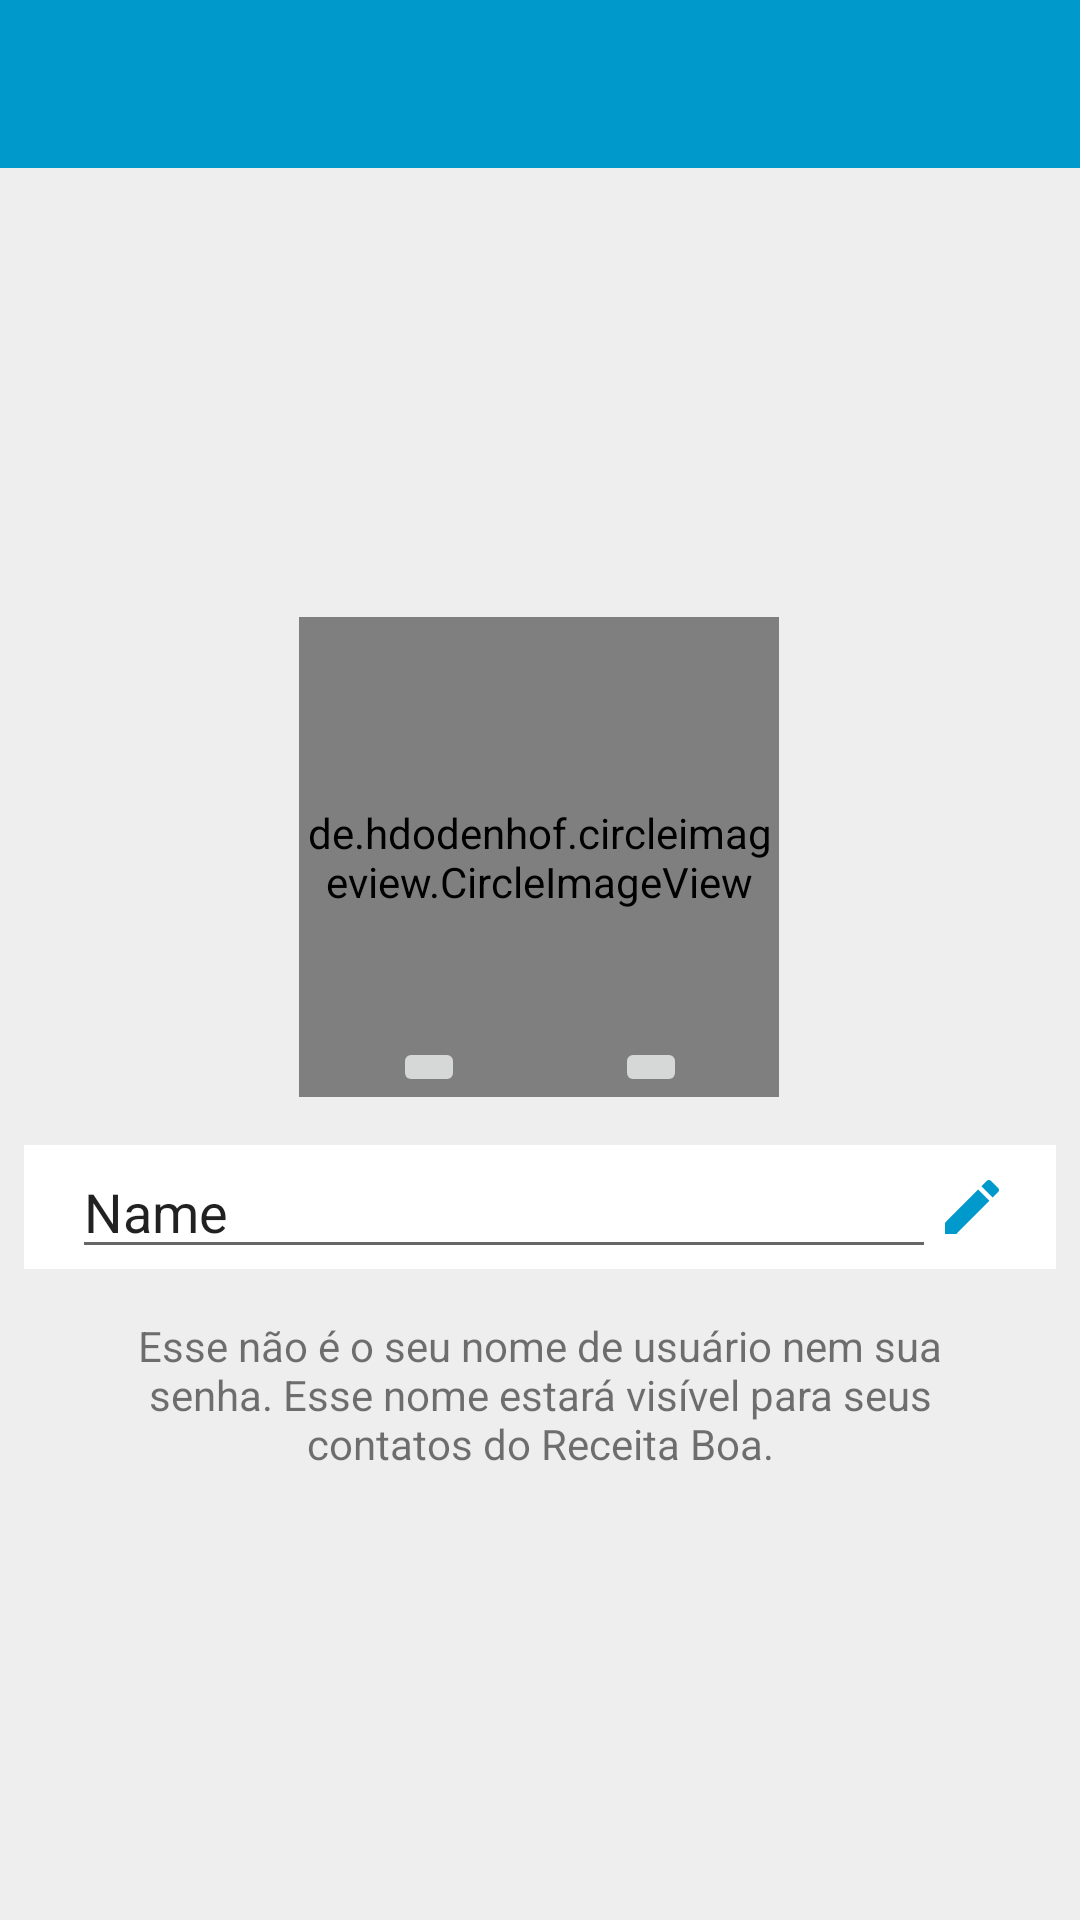

Icons on this 1080 x 1920 Android screen, each with its box as (x1, y1, x2, y2):
editar azul: (945, 1180, 999, 1234)
